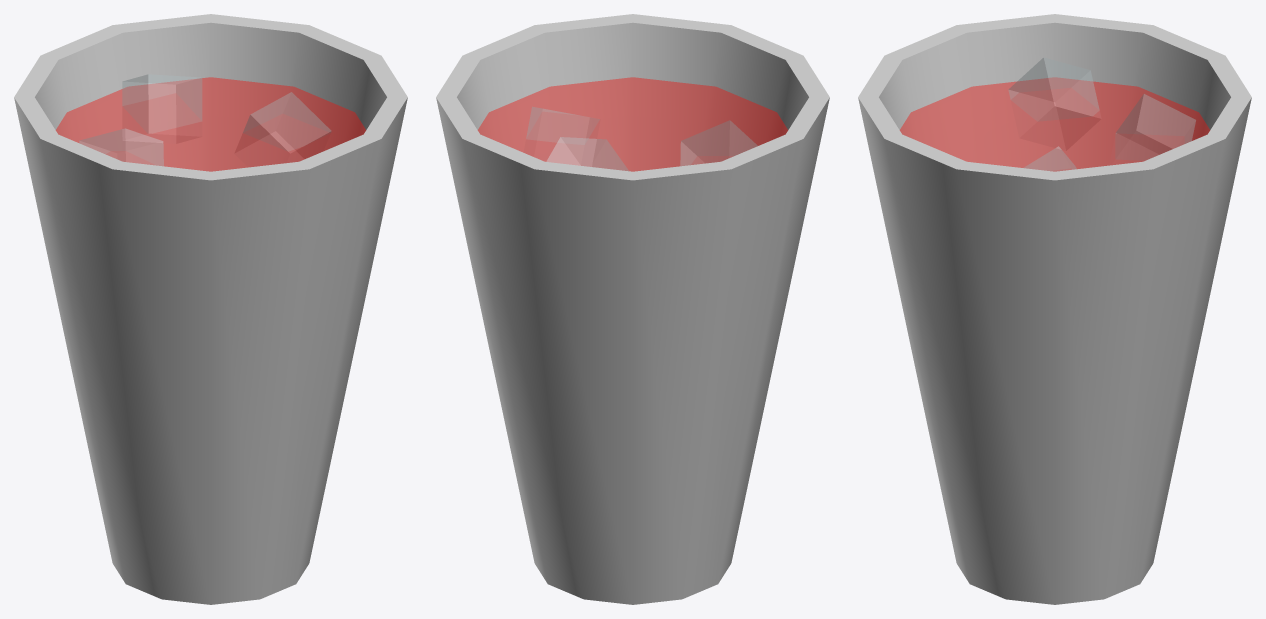
The model's file is Drink.fbx.
The picture shows the model from 3 angles, left to right: view 1: azimuth 30°, elevation 25°; view 2: azimuth 150°, elevation 25°; view 3: azimuth 270°, elevation 25°; orthographic projection.
Visible parts, largest first — view 1: Glass1, Liquid, Ice1, Ice, Ice2; view 2: Glass1, Liquid, Ice, Ice2, Ice1; view 3: Glass1, Liquid, Ice2, Ice1, Ice.
Boxes of the visible parts, bbox=[...] form: Glass1: bbox=[14, 14, 407, 604]; Liquid: bbox=[56, 77, 365, 171]; Ice1: bbox=[122, 74, 201, 143]; Ice: bbox=[235, 92, 331, 166]; Ice2: bbox=[79, 128, 163, 165]; Glass1: bbox=[436, 14, 829, 604]; Liquid: bbox=[478, 77, 787, 171]; Ice: bbox=[524, 107, 599, 161]; Ice2: bbox=[680, 120, 757, 165]; Ice1: bbox=[546, 137, 628, 170]; Glass1: bbox=[858, 14, 1251, 604]; Liquid: bbox=[900, 77, 1209, 171]; Ice2: bbox=[1008, 58, 1100, 150]; Ice1: bbox=[1109, 94, 1195, 165]; Ice: bbox=[1024, 146, 1076, 171].
Size of the model in its own units: 0.8 by 1.04 by 0.8.
